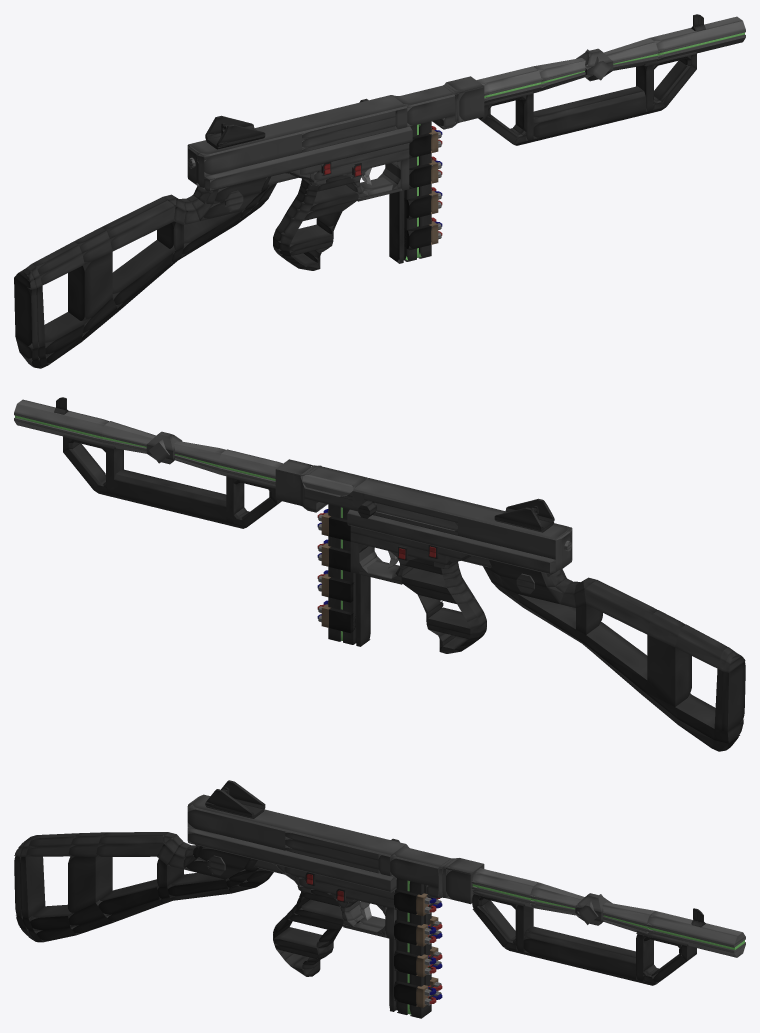
File: thompsoni.obj
3 renders of one model, top to bottom at view 1: azimuth 30°, elevation 25°; view 2: azimuth 150°, elevation 25°; view 3: azimuth 330°, elevation 25°, orthographic.
Parts seen in each view (by area): view 1: gunModel7, defaultStockModel3, defaultBarrelModel4, defaultStockModel9, defaultBarrelModel0, gunModel120, gunModel146, defaultStockModel43, defaultBarrelModel33, defaultStockModel11, defaultStockModel7, defaultBarrelModel5 (+21 smaller); view 2: gunModel7, defaultStockModel3, defaultBarrelModel4, defaultStockModel9, defaultBarrelModel0, gunModel120, gunModel146, defaultStockModel43, defaultBarrelModel33, defaultStockModel7, defaultStockModel11, defaultStockModel28 (+20 smaller); view 3: gunModel7, defaultBarrelModel4, defaultStockModel3, defaultBarrelModel0, gunModel120, gunModel146, defaultBarrelModel33, defaultStockModel36, defaultStockModel9, defaultBarrelModel5, defaultStockModel7, defaultBarrelModel1 (+36 smaller).
Boxes of the visible parts, bbox=[...] form: gunModel7: bbox=[189, 95, 406, 157]; defaultStockModel3: bbox=[68, 252, 112, 323]; defaultBarrelModel4: bbox=[204, 130, 412, 190]; defaultStockModel9: bbox=[112, 240, 173, 307]; defaultBarrelModel0: bbox=[195, 134, 301, 176]; gunModel120: bbox=[533, 97, 645, 139]; gunModel146: bbox=[533, 86, 645, 123]; defaultStockModel43: bbox=[14, 278, 37, 348]; defaultBarrelModel33: bbox=[650, 16, 745, 50]; defaultStockModel11: bbox=[38, 312, 84, 356]; defaultStockModel7: bbox=[175, 211, 242, 256]; defaultBarrelModel5: bbox=[205, 126, 412, 179]; gunModel7: bbox=[353, 478, 570, 540]; defaultStockModel3: bbox=[647, 635, 691, 706]; defaultBarrelModel4: bbox=[347, 513, 549, 573]; defaultStockModel9: bbox=[586, 623, 647, 690]; defaultBarrelModel0: bbox=[458, 517, 571, 559]; gunModel120: bbox=[114, 480, 226, 522]; gunModel146: bbox=[114, 469, 226, 506]; defaultStockModel43: bbox=[722, 661, 745, 731]; defaultBarrelModel33: bbox=[14, 399, 109, 433]; defaultStockModel7: bbox=[517, 594, 578, 639]; defaultStockModel11: bbox=[675, 695, 715, 739]; defaultStockModel28: bbox=[584, 580, 657, 621]; gunModel7: bbox=[187, 794, 406, 856]; defaultBarrelModel4: bbox=[188, 832, 396, 891]; defaultStockModel3: bbox=[68, 856, 112, 915]; defaultBarrelModel0: bbox=[187, 805, 292, 850]; gunModel120: bbox=[523, 932, 636, 979]; gunModel146: bbox=[524, 926, 635, 964]; defaultBarrelModel33: bbox=[647, 911, 745, 945]; defaultStockModel36: bbox=[20, 856, 45, 918]; defaultStockModel9: bbox=[98, 879, 160, 916]; defaultBarrelModel5: bbox=[187, 827, 394, 880]; defaultStockModel7: bbox=[168, 872, 228, 896]; defaultBarrelModel1: bbox=[472, 868, 539, 895].
Bounding box in the file's own units: 24.6 × 6.55 × 1.6.
